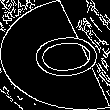O_E: (9, 27, 101, 83)
